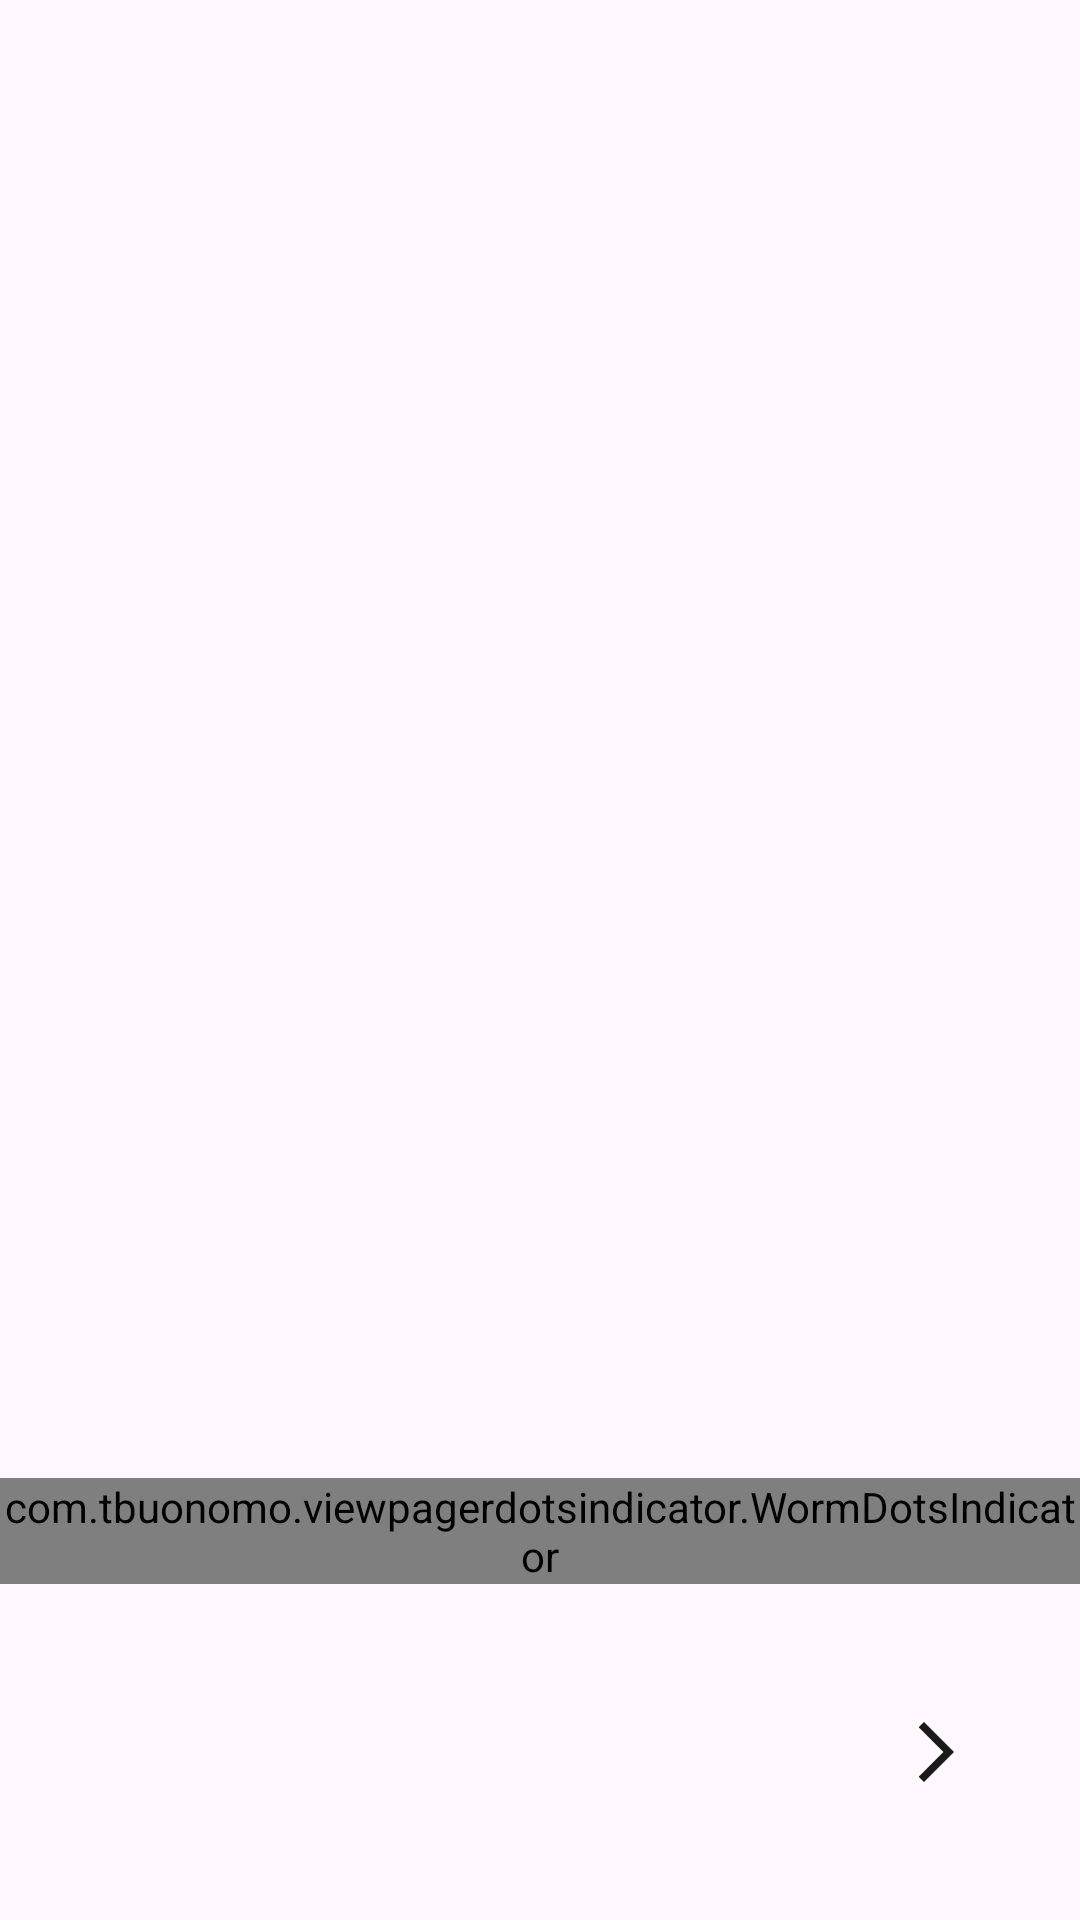

Icons on this 1080×1920 Android screen, each with its box as (x1, y1, x2, y2):
arrow forward: (919, 1722, 954, 1782)
